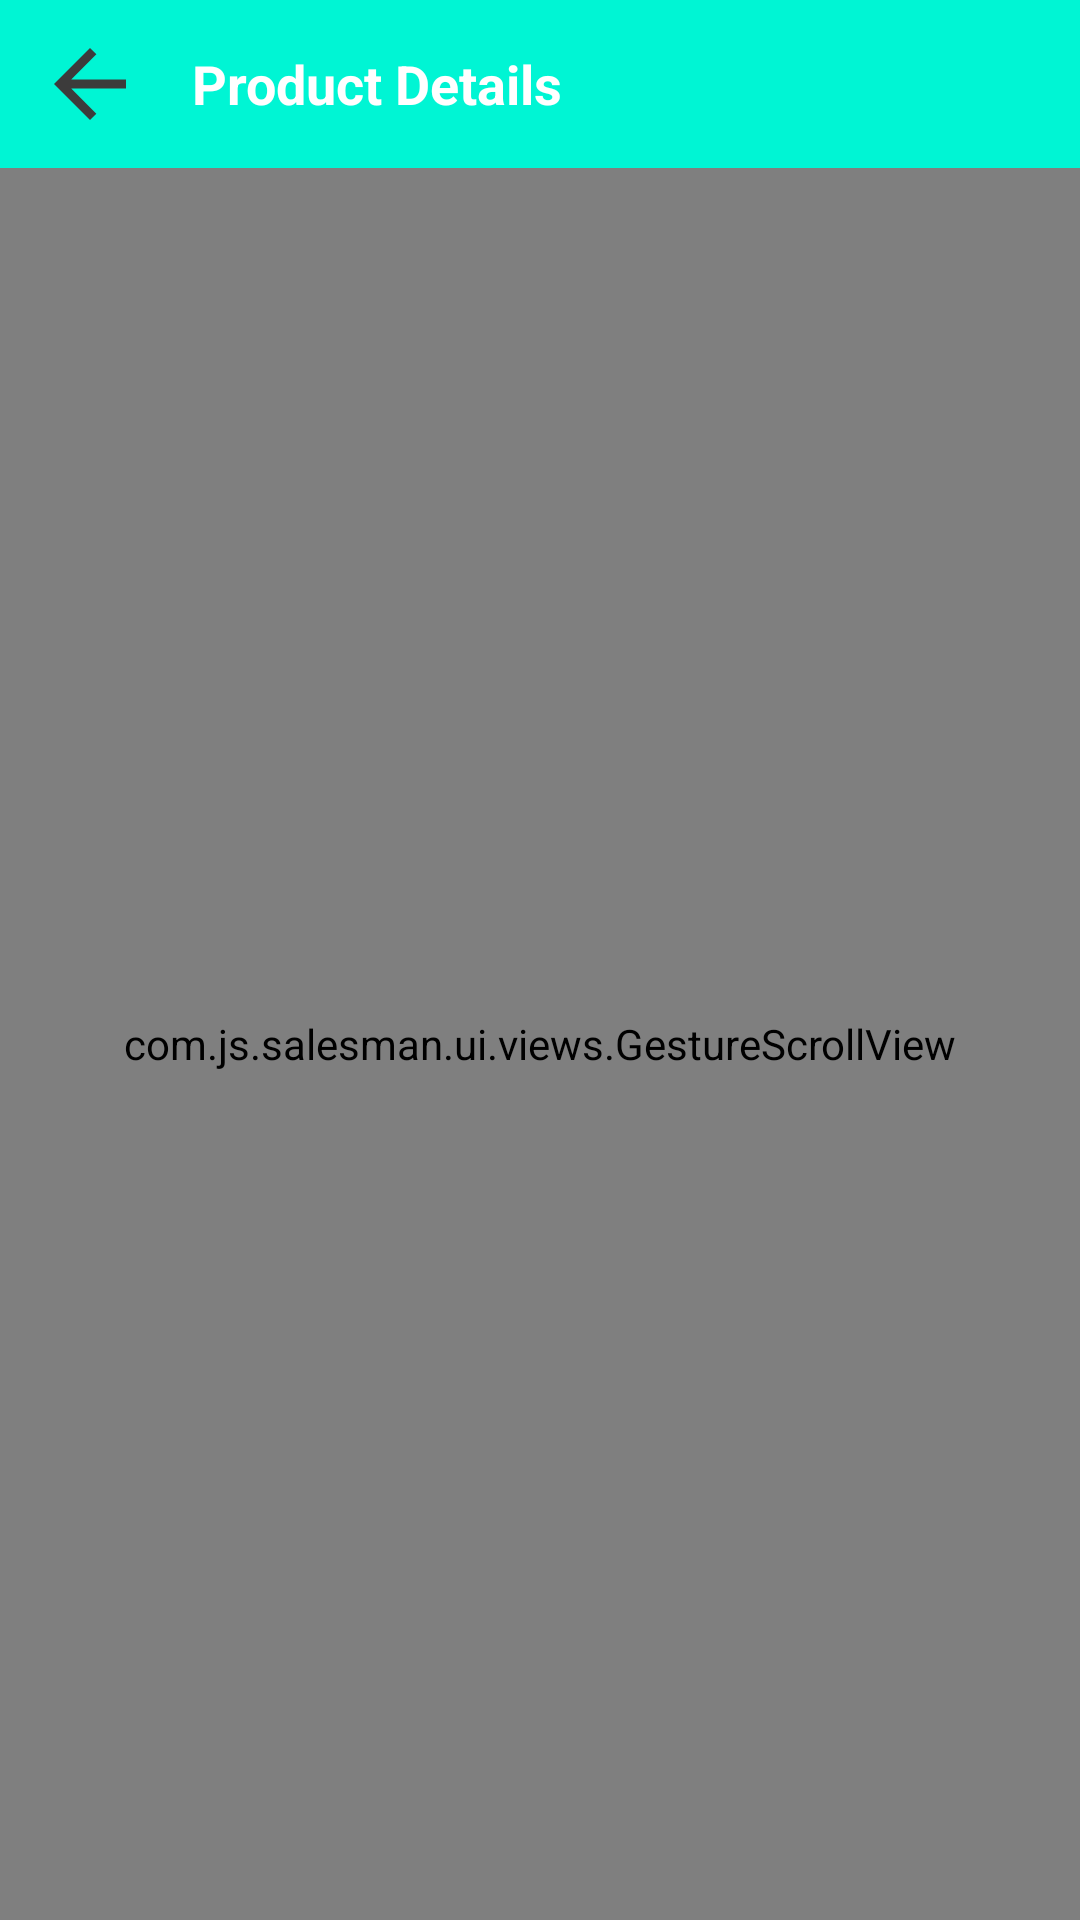

Icon click points for this 1080x1920 phone screenshot, format (x,y):
Back: (90,84)
